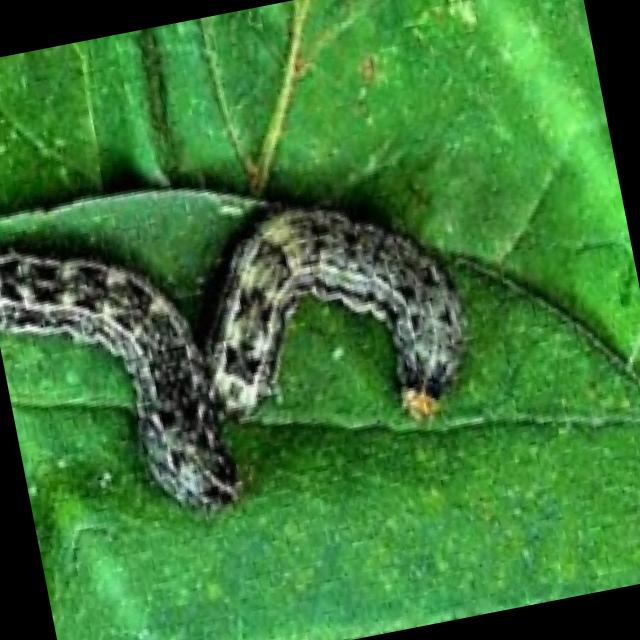Armyworm: (1, 153, 247, 589), (187, 161, 486, 485)
